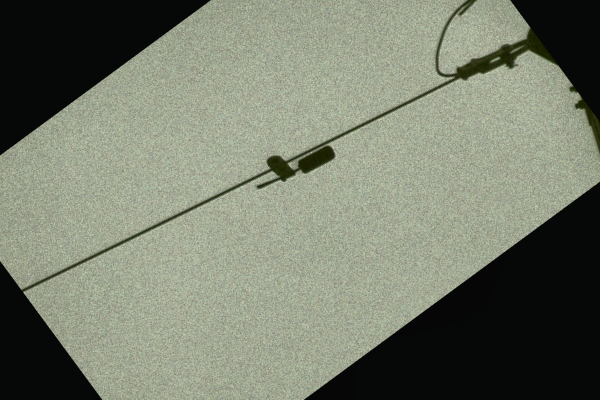damper_defect: (246, 142, 338, 192)
